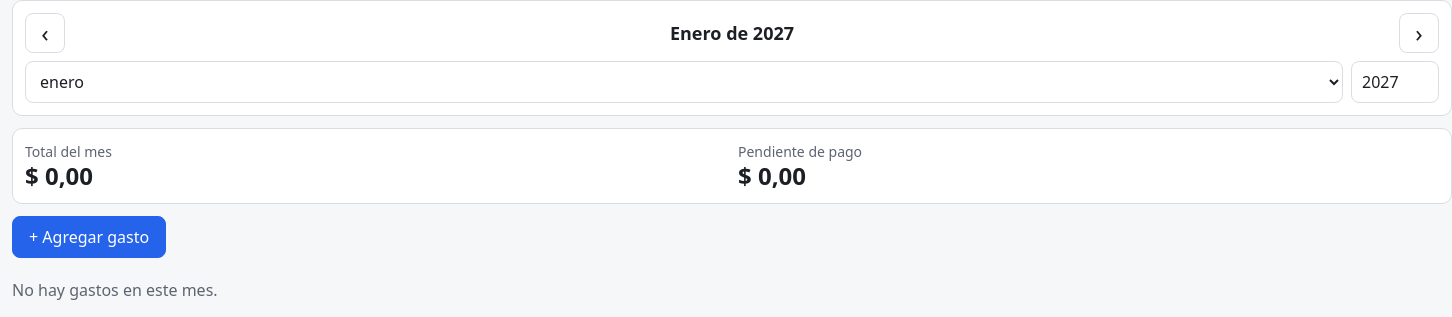
Test: ExpensesPage › pasa de enero a diciembre del año anterior
Click the button named "Mes anterior" at (45, 33), box [25,13,65,53]
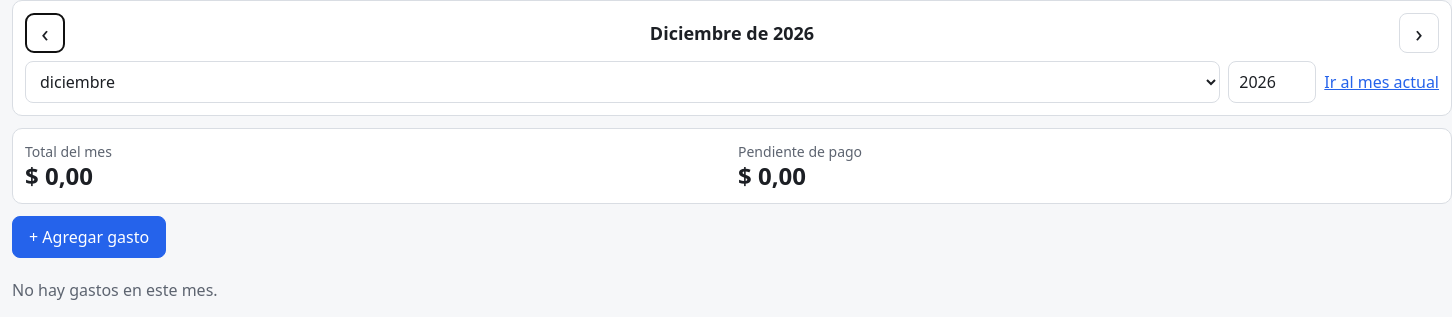
Result: the heading "diciembre de 2026" is shown at [650,21,814,45]
